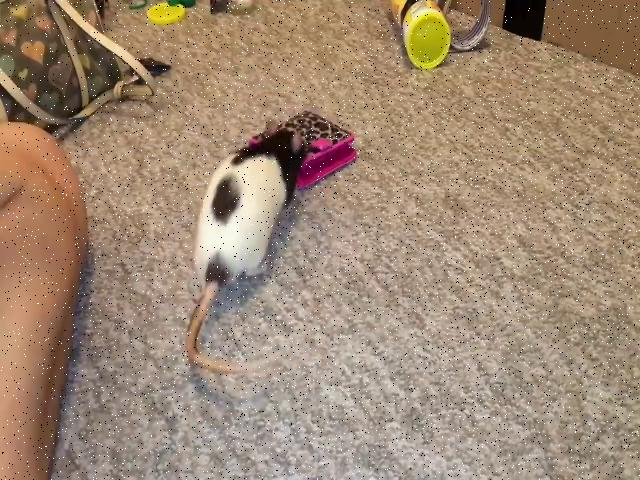Tikus: (196, 126, 308, 370)
